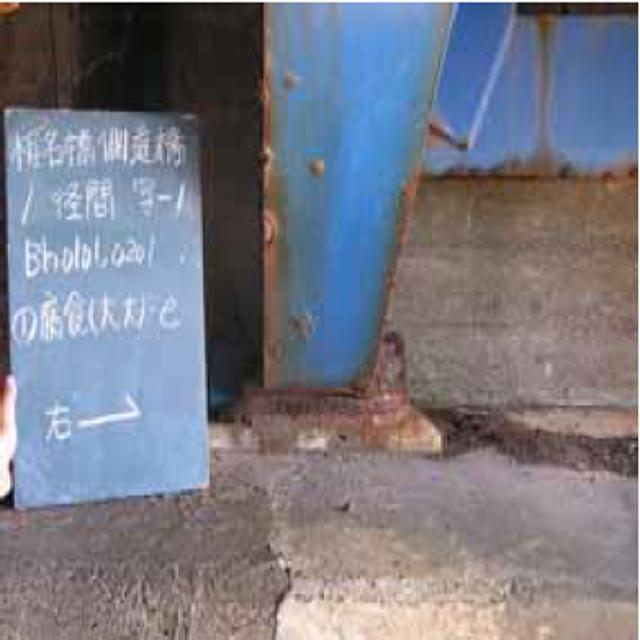corrosion: (251, 40, 443, 451)
